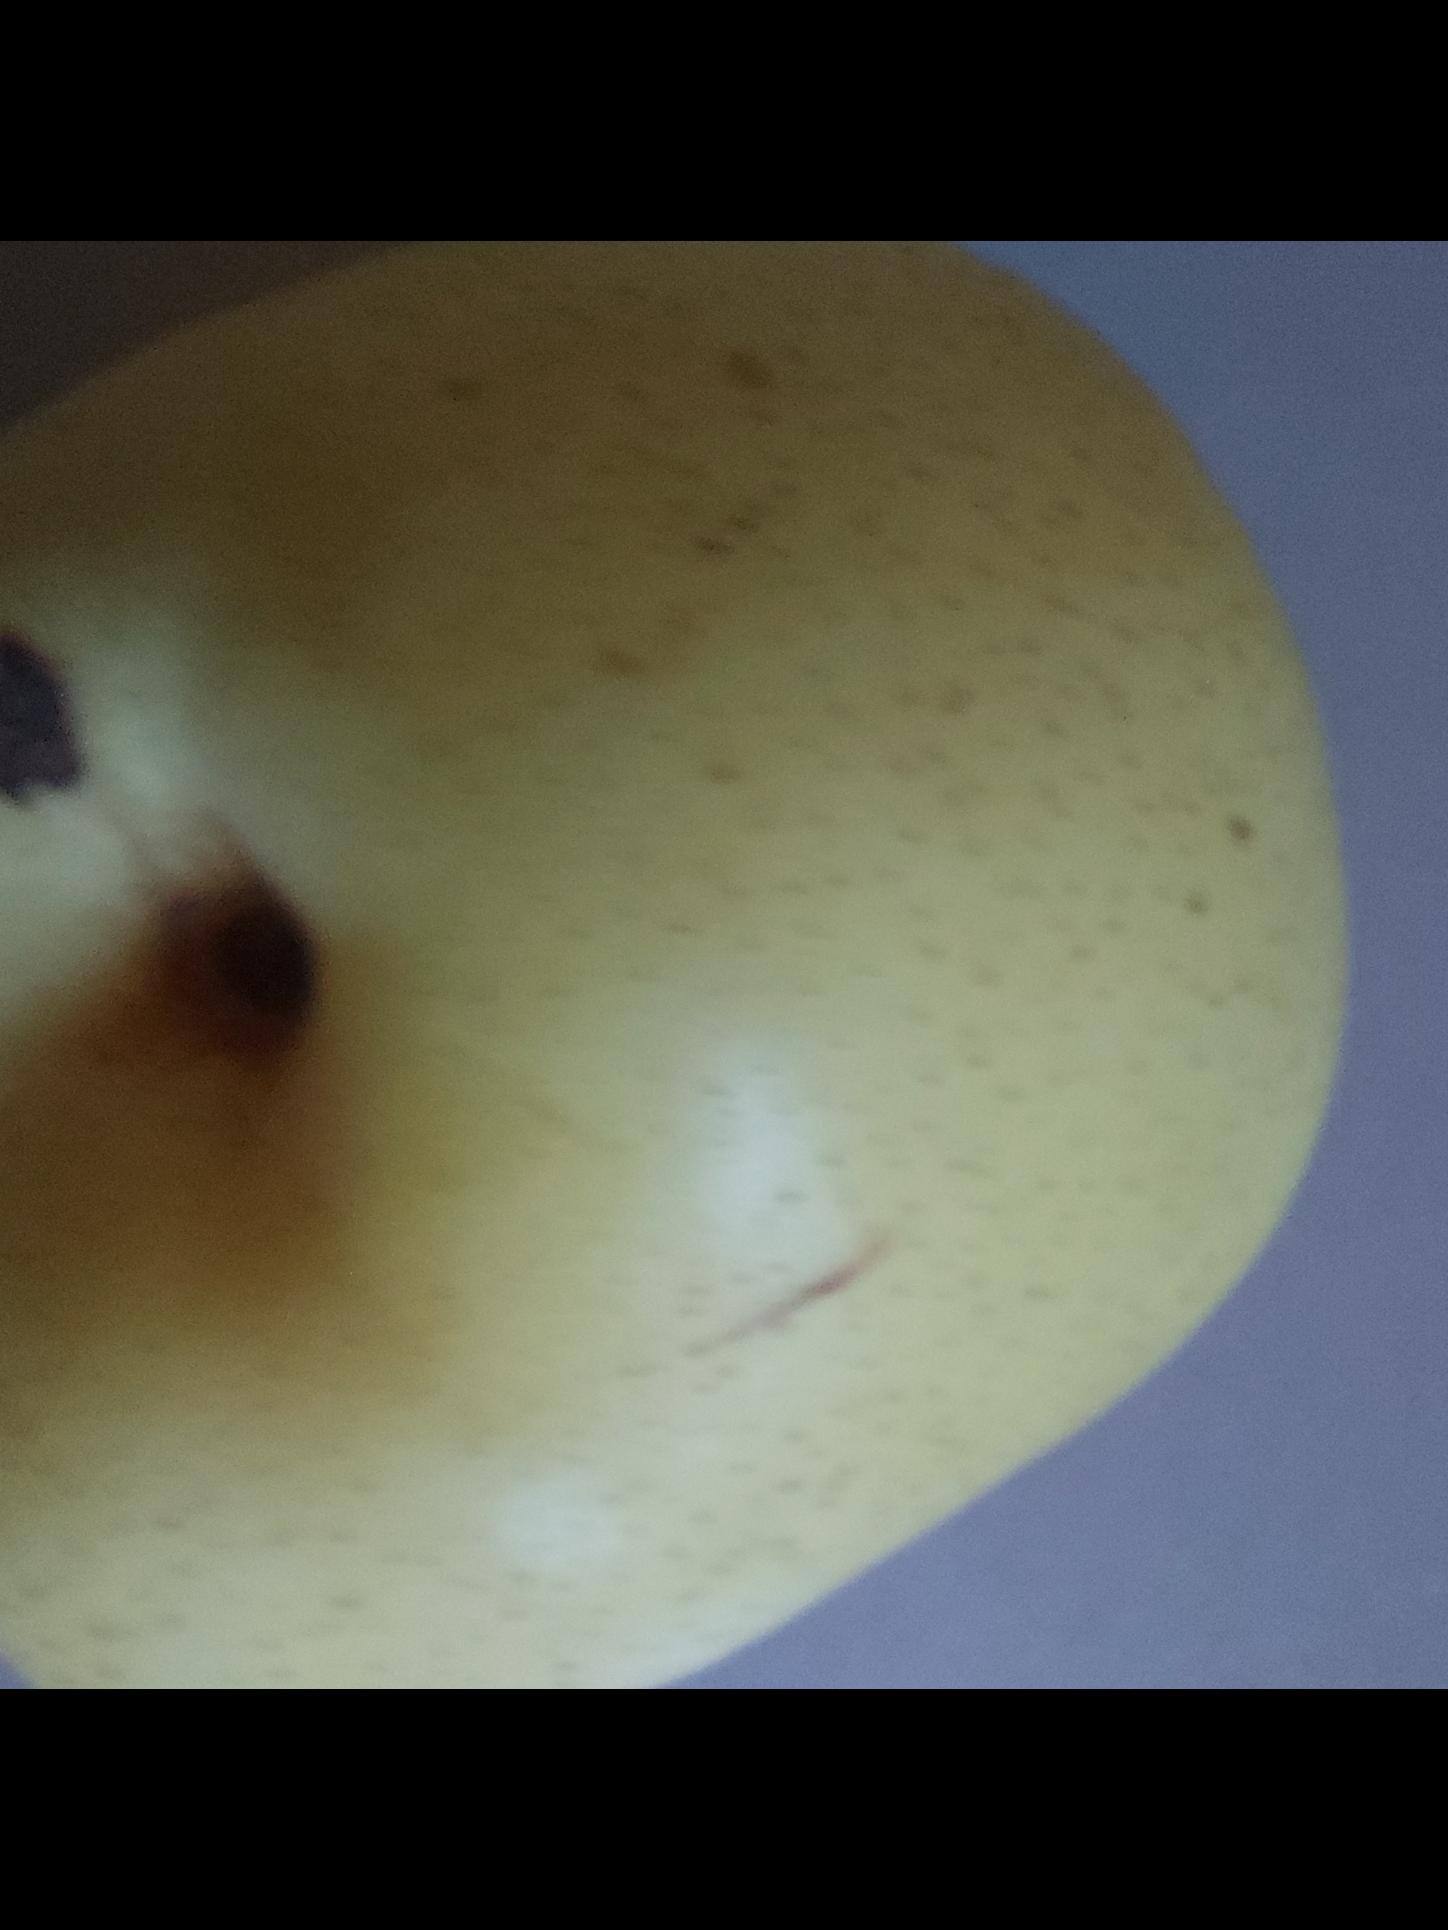Good Pear: (0, 240, 1363, 1690)
